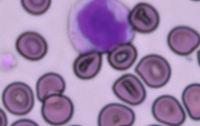M: (67, 0, 134, 54)
